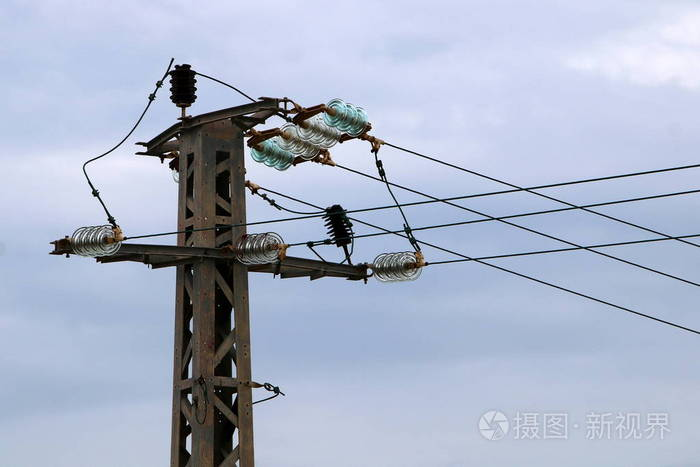insulator: (234, 232, 285, 265), (325, 99, 369, 136), (72, 225, 121, 258), (372, 251, 423, 282), (279, 124, 319, 159), (255, 139, 296, 171), (298, 118, 340, 146)
